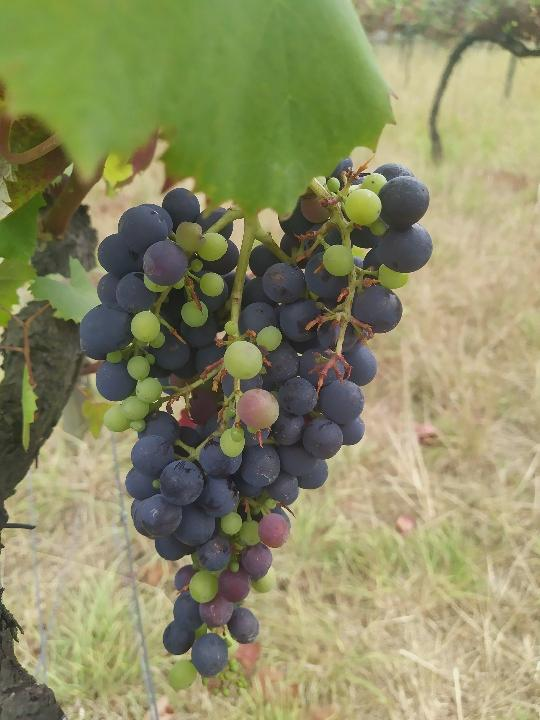grape: (75, 150, 436, 693)
